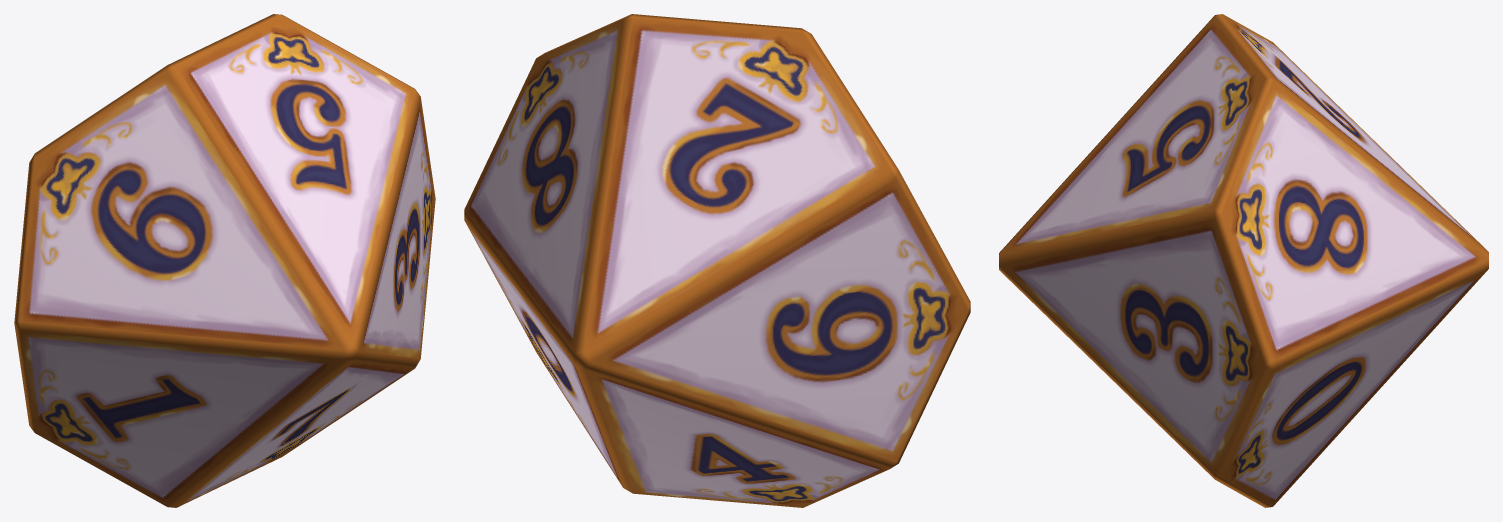
Rendered from d10-urik.glb.
3 views of the same model, side by side, from view 1: azimuth 30°, elevation 25°; view 2: azimuth 150°, elevation 25°; view 3: azimuth 270°, elevation 25° (orthographic). The views are drawn at different scales.
Parts seen in each view (by area): view 1: Mesh_0; view 2: Mesh_0; view 3: Mesh_0.
Boxes of the visible parts, x1=… form: Mesh_0: x1=14, y1=14, x2=435, y2=507; Mesh_0: x1=464, y1=14, x2=970, y2=507; Mesh_0: x1=999, y1=14, x2=1488, y2=507.
Size of the model in its own units: 175 by 166 by 172.
Materials: 1 (1 with a texture image).
